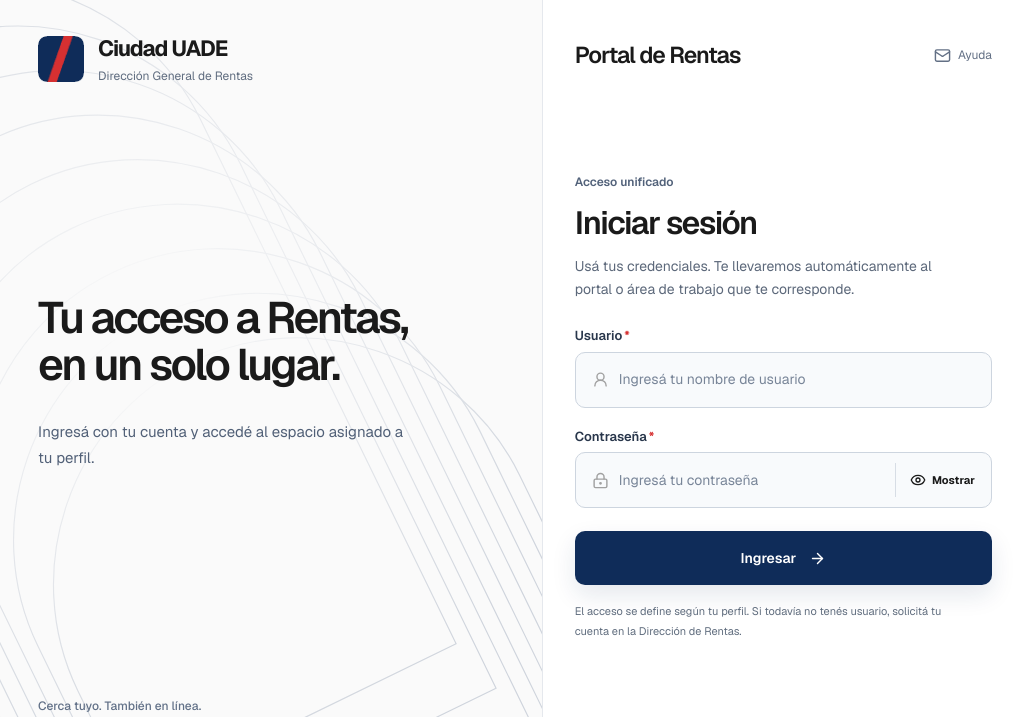
it: ajustes y saldos a favor › aclara que la aprobación aplica el ajuste
Type "mrivas" into the field labelled "Usuario*" at (797,380), box [619,366,975,394]
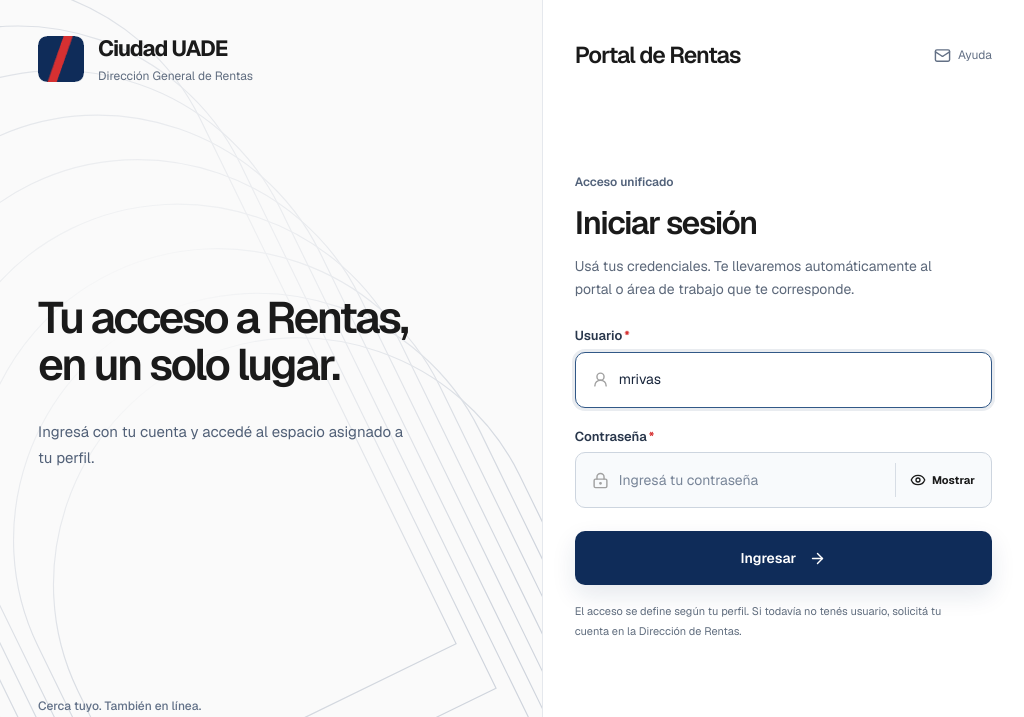
Type "rentas123" into the password field labelled "Contraseña*" at (750,480), box [619,466,881,494]
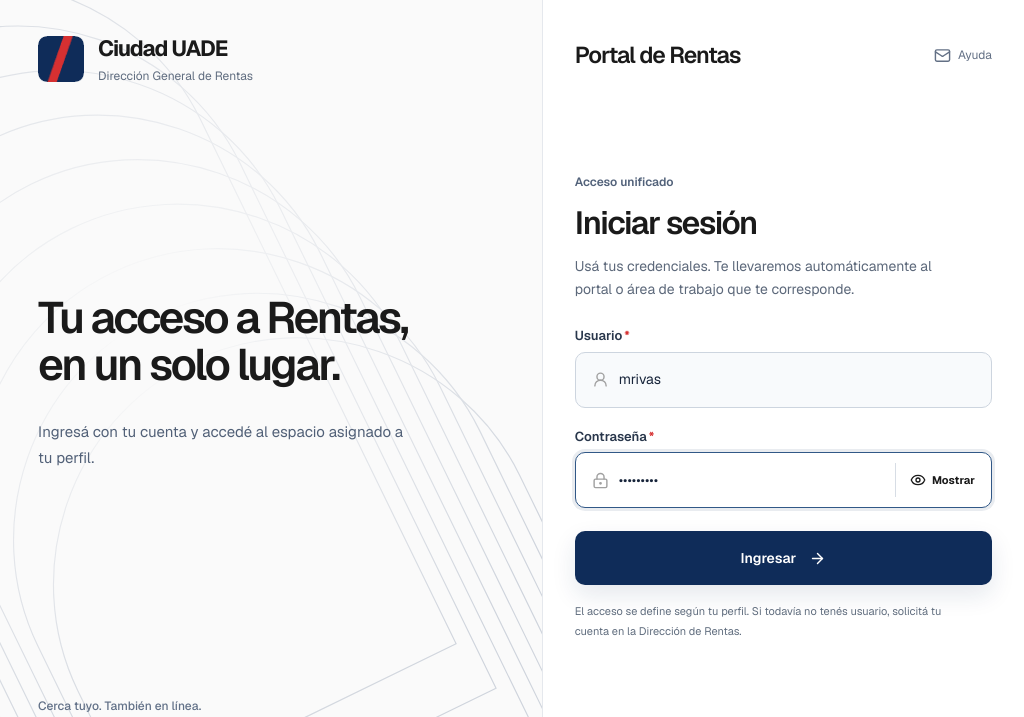
Click the button "Ingresar" at (783,558), box [575,531,992,585]
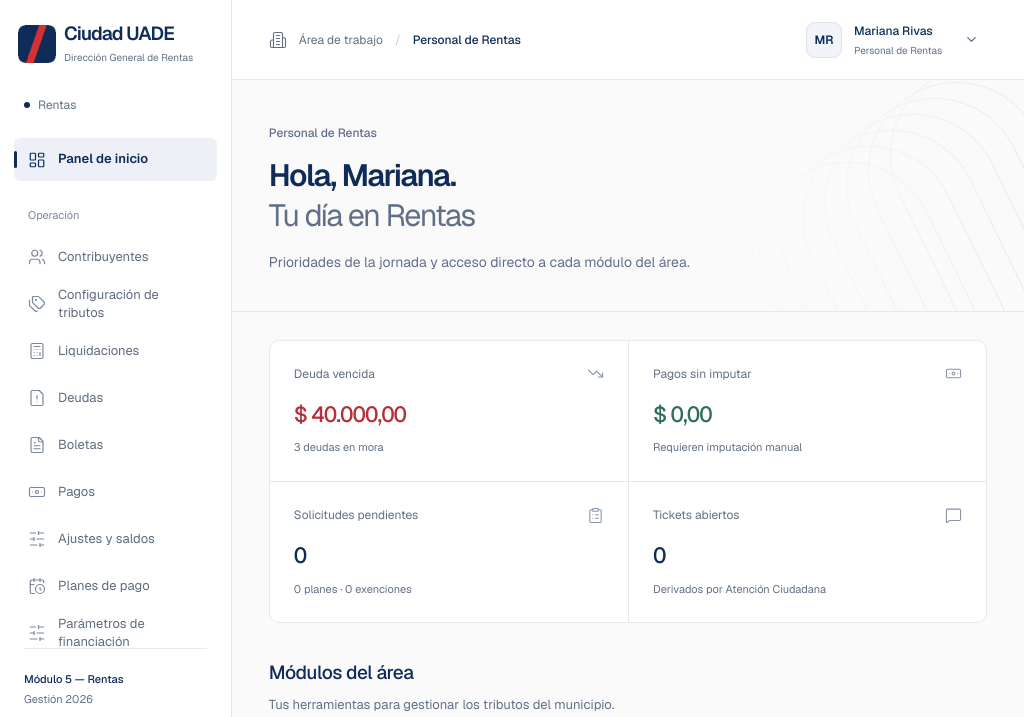
Result: the heading "Hola, Mariana. Tu día en Rentas" is shown at [269,155,475,235]
Click the link "Ajustes y saldos" at (91,539), box [28,530,155,548]
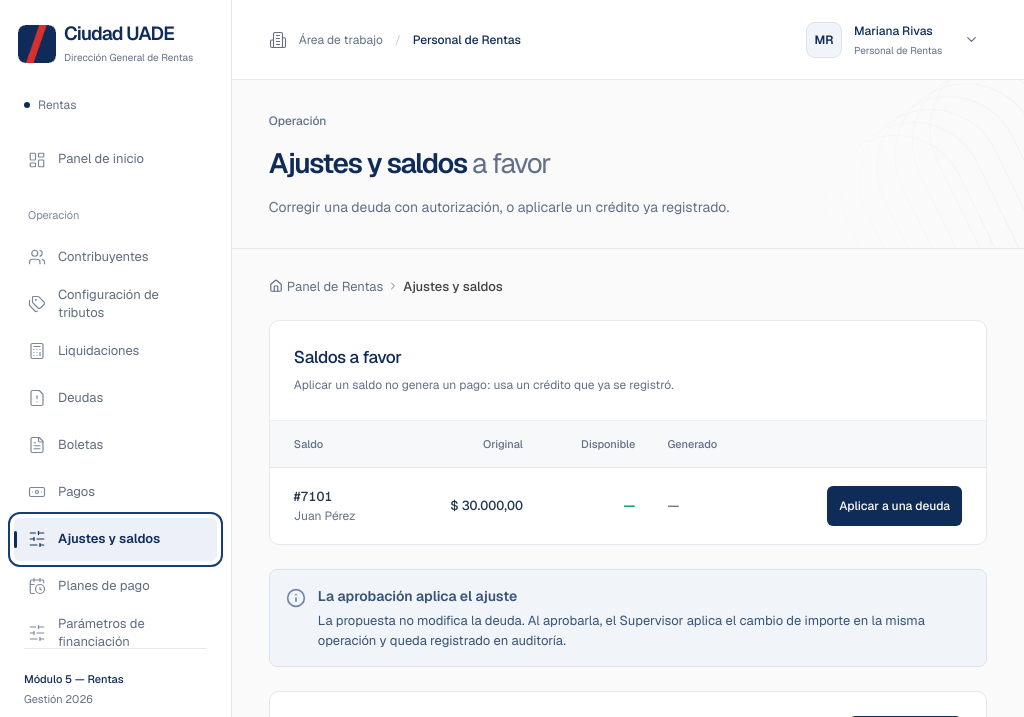
Result: the text "La aprobación aplica el ajuste" is shown at [318,587,517,605]
